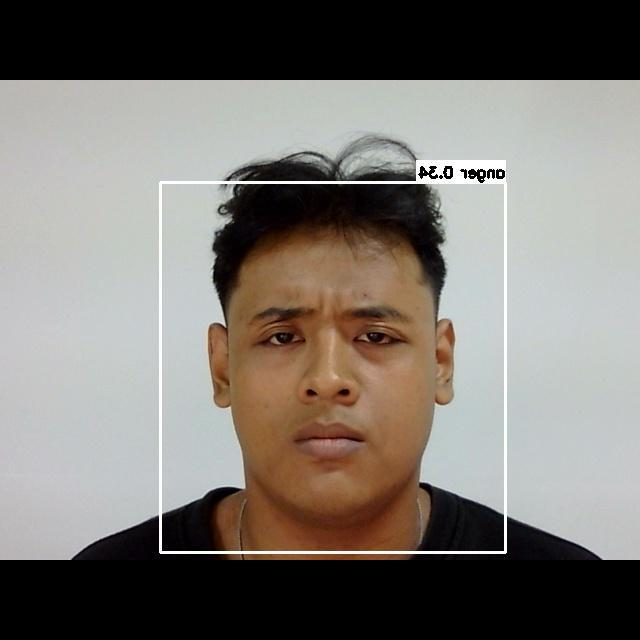Angry: (225, 283, 441, 474)
